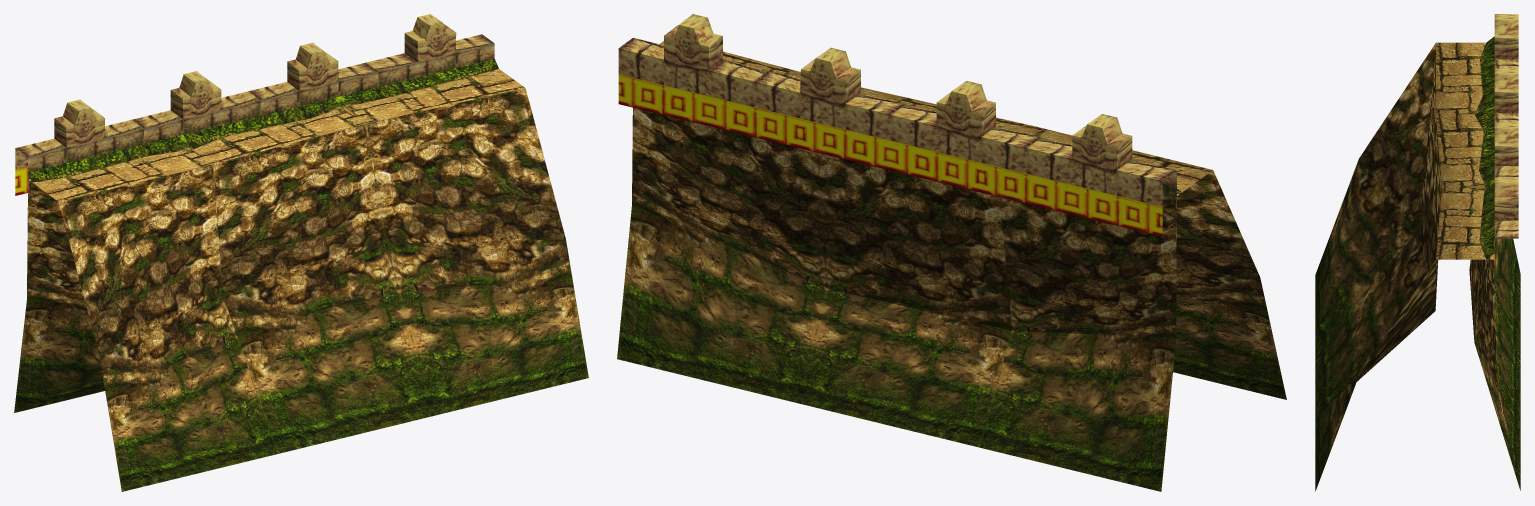
Rendered from narrow_long_mid_1.fbx.
3 views of the same model, side by side, from view 1: azimuth 30°, elevation 25°; view 2: azimuth 150°, elevation 25°; view 3: azimuth 270°, elevation 25° (orthographic). The views are drawn at different scales.
Parts seen in each view (by area): view 1: templeStraightNarrowLongDownHorz_prefab; view 2: templeStraightNarrowLongDownHorz_prefab; view 3: templeStraightNarrowLongDownHorz_prefab.
Part boxes in pixels (bbox=[...]): templeStraightNarrowLongDownHorz_prefab: bbox=[14, 14, 588, 491]; templeStraightNarrowLongDownHorz_prefab: bbox=[617, 14, 1286, 491]; templeStraightNarrowLongDownHorz_prefab: bbox=[1315, 14, 1520, 491].
Size of the model in its own units: 6017 by 3677 by 2407.
